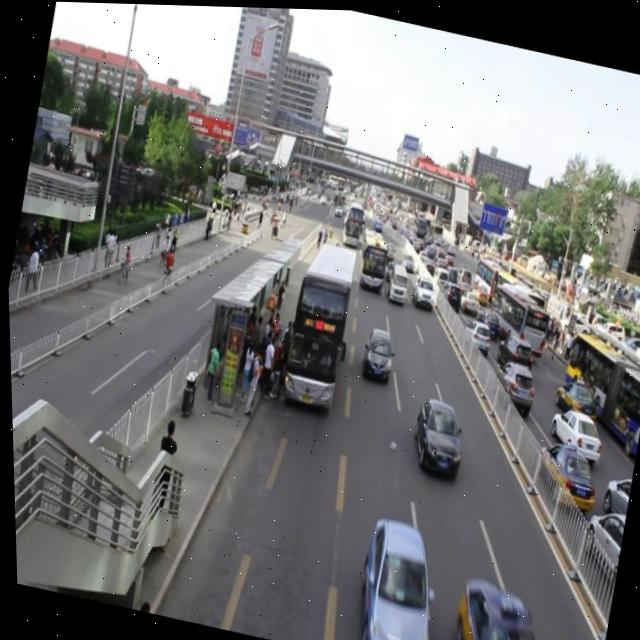car: (343, 511, 444, 640), (438, 572, 557, 640), (403, 392, 466, 473), (356, 324, 395, 379), (407, 269, 434, 306), (382, 255, 398, 280), (398, 248, 413, 270), (380, 239, 394, 257), (368, 213, 380, 231), (330, 201, 343, 217)
truck: (385, 262, 407, 301)
van: (275, 235, 358, 408), (351, 224, 389, 286), (338, 198, 363, 243)
